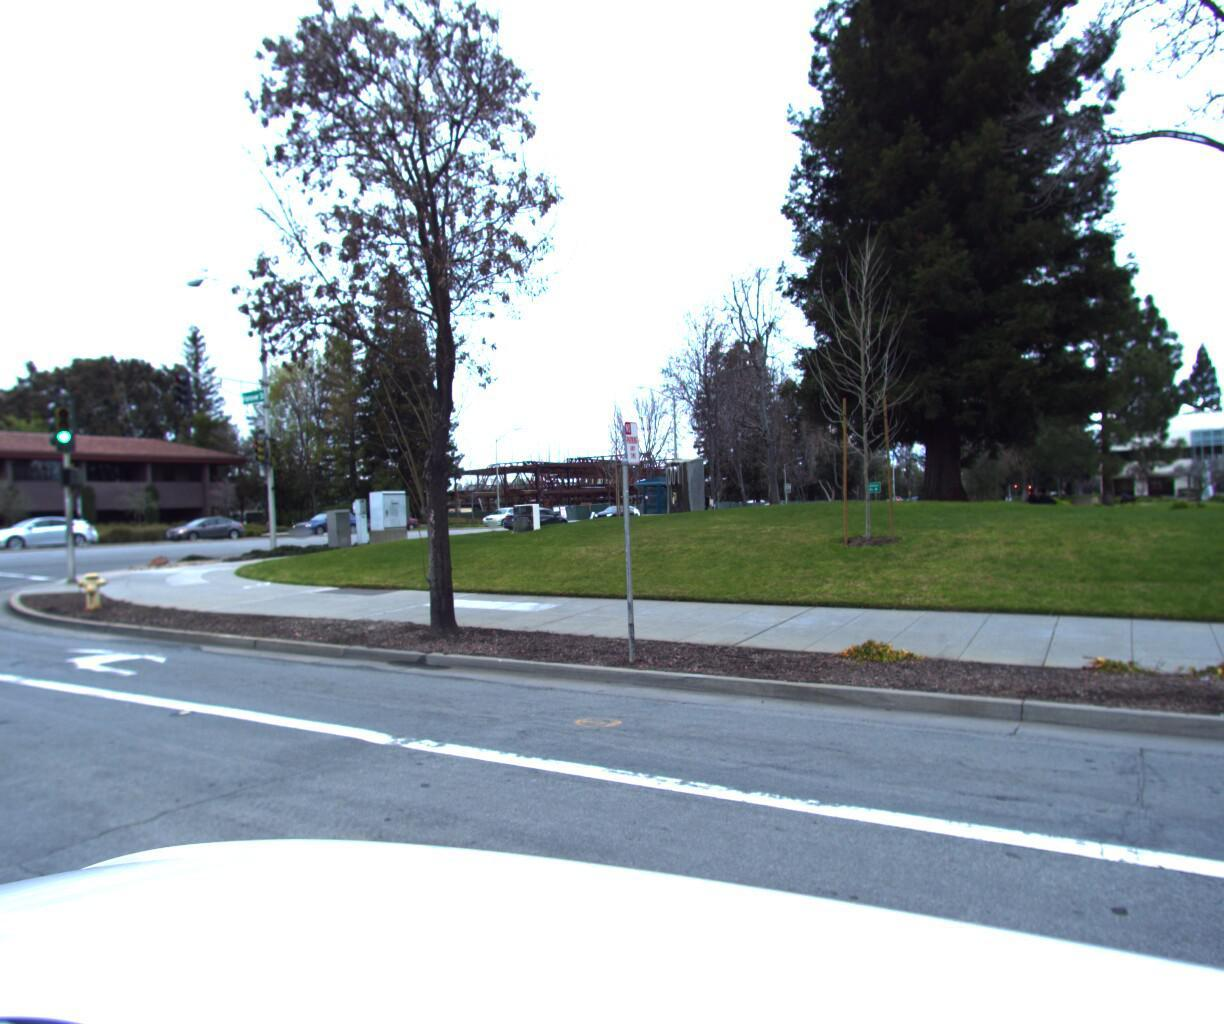car: (158, 509, 250, 541), (286, 505, 366, 535), (498, 501, 569, 530), (477, 504, 533, 528)
